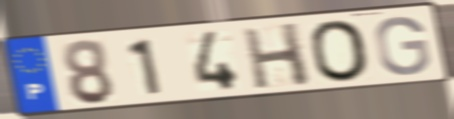1: (126, 36, 164, 97)
4: (192, 29, 243, 93)
8: (60, 37, 117, 106)
G: (372, 14, 433, 78)
H: (240, 20, 315, 91)
O: (307, 18, 374, 84)
